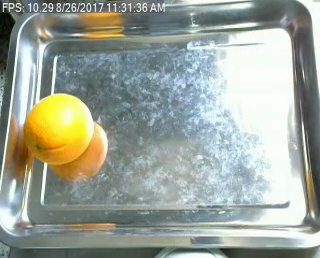Orange: (22, 92, 93, 165)
